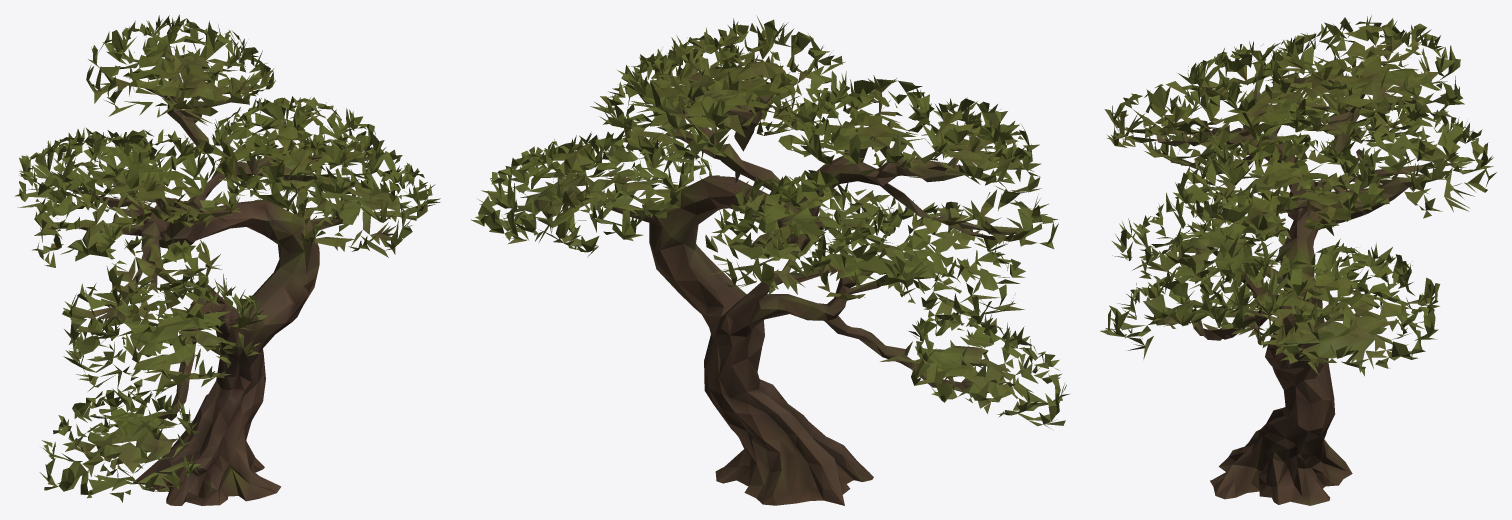
Rendered from lib_bonsai.vch.glb.
3 views of the same model, side by side, from view 1: azimuth 30°, elevation 25°; view 2: azimuth 150°, elevation 25°; view 3: azimuth 270°, elevation 25° (orthographic). The views are drawn at different scales.
Parts seen in each view (by area): view 1: lib_bonsai; view 2: lib_bonsai; view 3: lib_bonsai.
Boxes of the visible parts, <box> form: lib_bonsai: <box>14,14,440,505</box>; lib_bonsai: <box>470,15,1070,505</box>; lib_bonsai: <box>1100,15,1496,505</box>.
Bounding box in the file's own units: 2 × 1.81 × 1.45.
